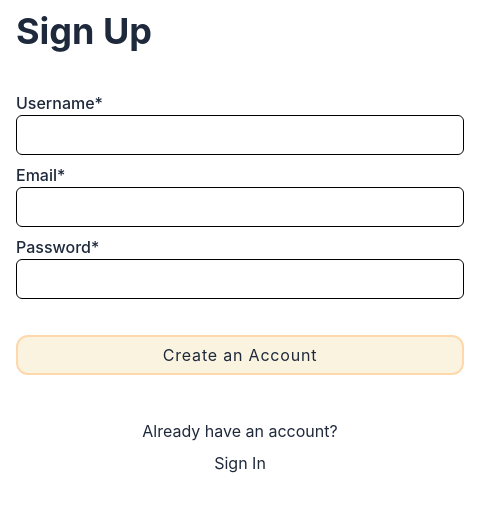
Test case: <Signup /> › should not submit if email is already in use
# should be okay
Type "test" into the field named "Username". click: {"x": 240, "y": 135}
box: [16,115,464,155]
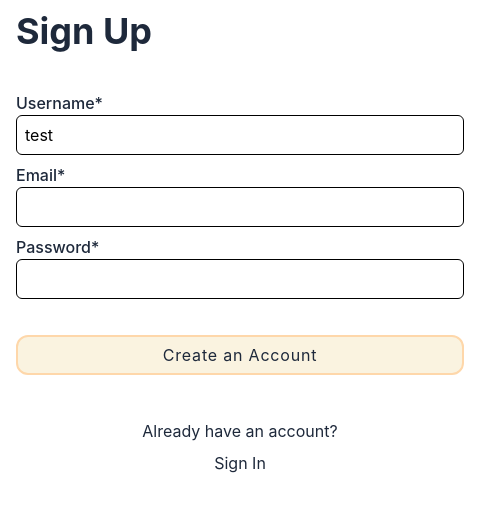
Type "test1@mail.com" into the field named "Email". click: {"x": 240, "y": 207}
box: [16,187,464,227]
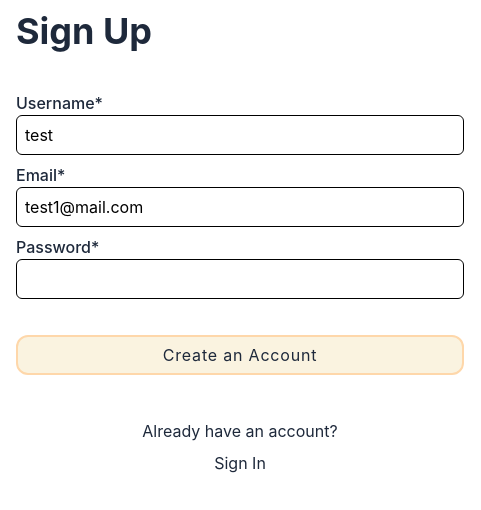
Type "password" into the password field named "Password". click: {"x": 240, "y": 279}
box: [16,259,464,299]
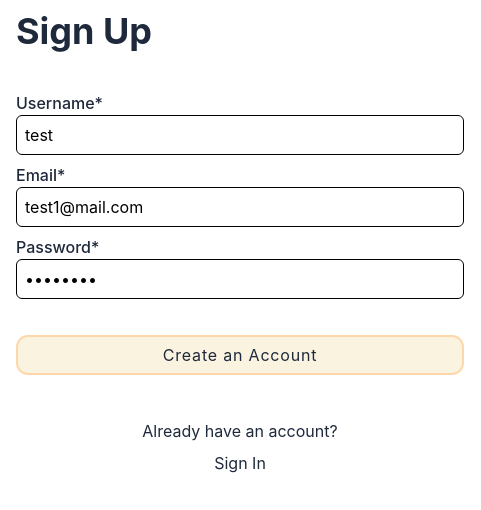
Click the button "Create an Account". click: {"x": 240, "y": 355}
box: [16,335,464,375]
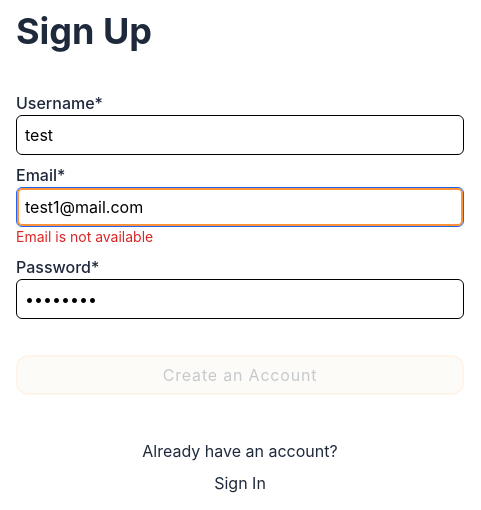
Check: the message reads "Email is not available", box [16,228,153,245]
Check: the button "Create an Account" is disabled, box [16,355,464,395]
